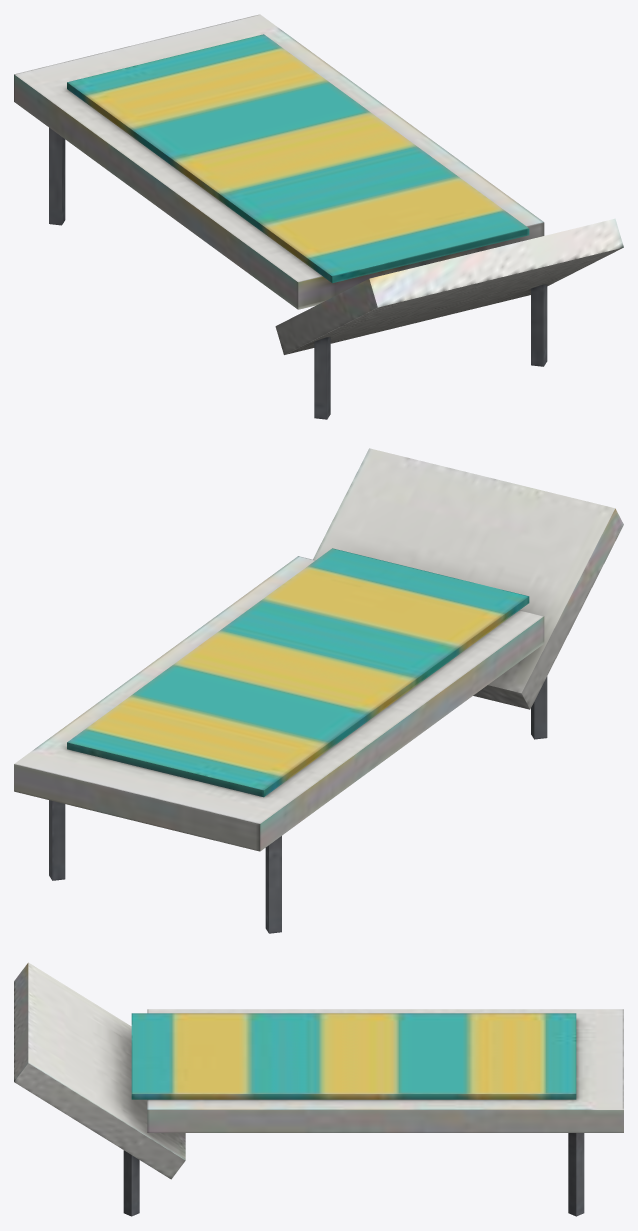
Rendered from tumbona.glb.
3 views of the same model, one above another, from view 1: azimuth 30°, elevation 25°; view 2: azimuth 150°, elevation 25°; view 3: azimuth 270°, elevation 25° (orthographic). The views are drawn at different scales.
Parts seen in each view (by area): view 1: tumbona; view 2: tumbona; view 3: tumbona.
Part boxes in pixels (bbox=[...]): tumbona: bbox=[14, 14, 623, 419]; tumbona: bbox=[14, 448, 623, 933]; tumbona: bbox=[14, 962, 623, 1216].
Bounding box in the file's own units: 0.75 × 0.5424 × 1.92.
1 material, 1 textured.
